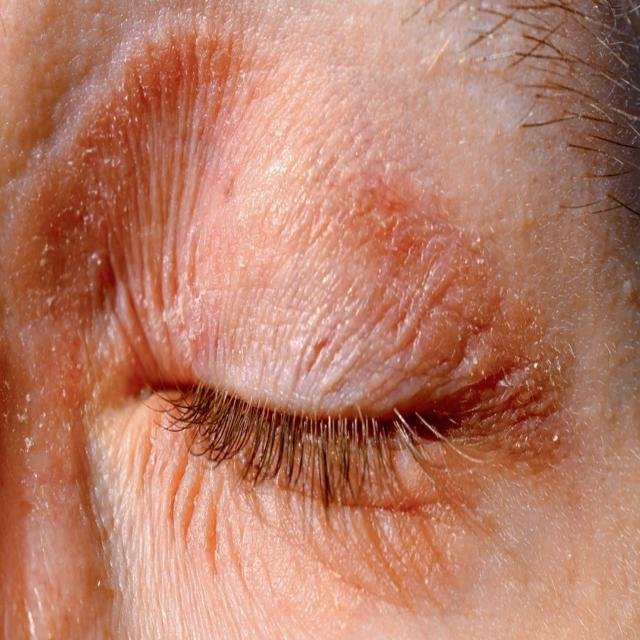Dry-Skin: (5, 68, 507, 568)
